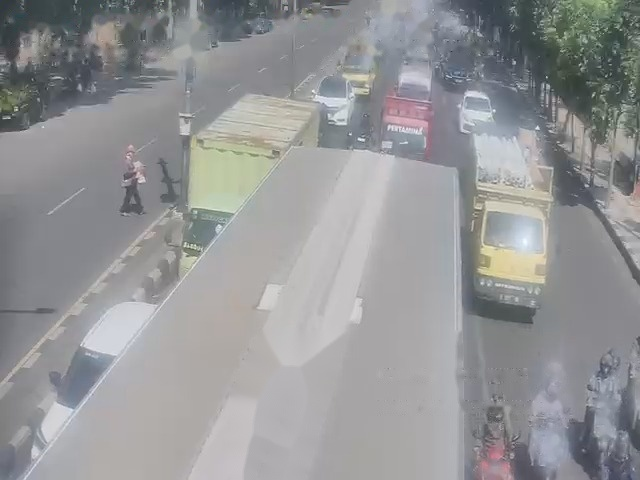Bis: (25, 147, 465, 479)
Mobil: (30, 301, 154, 459), (461, 84, 498, 134), (314, 67, 348, 120)
Motor: (528, 365, 569, 479), (525, 369, 567, 469), (472, 395, 520, 479), (578, 356, 620, 448), (351, 113, 372, 148)
Truk: (179, 94, 319, 275), (471, 124, 553, 311), (380, 61, 433, 159), (380, 64, 433, 159), (341, 55, 376, 96)
